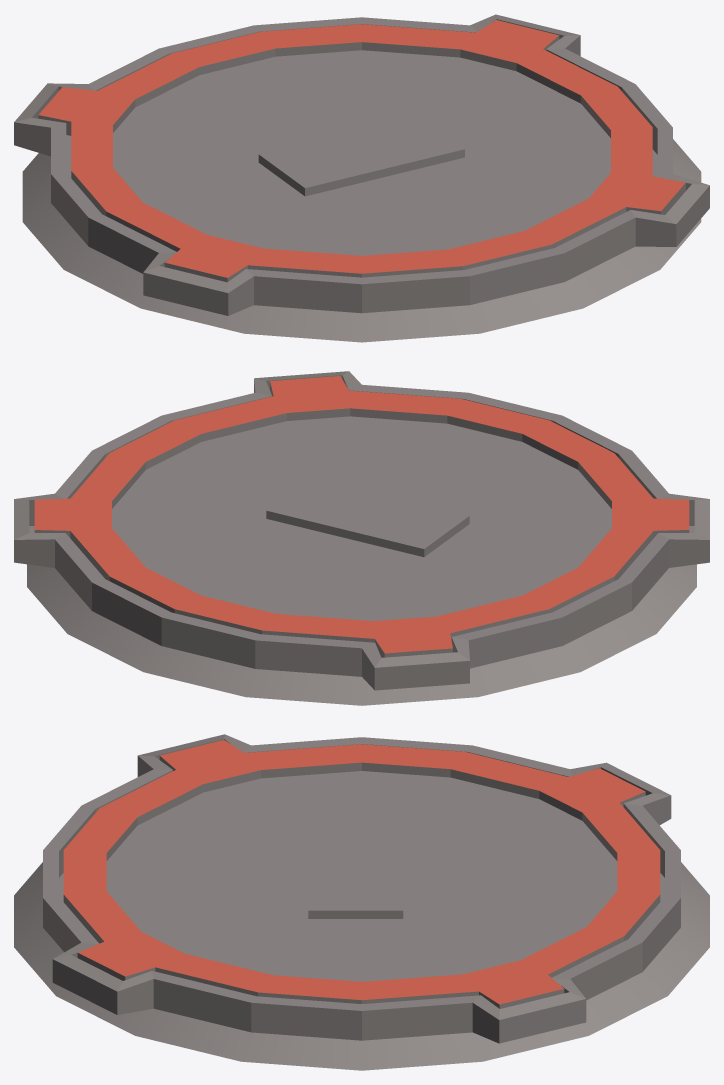
The model's file is SM_Severage_01.fbx.
3 views of the same model, one above another, from view 1: azimuth 30°, elevation 25°; view 2: azimuth 150°, elevation 25°; view 3: azimuth 270°, elevation 25° (orthographic). The views are drawn at different scales.
Visible parts, largest first — view 1: SM_Severage_01; view 2: SM_Severage_01; view 3: SM_Severage_01.
Boxes of the visible parts, <box> form: SM_Severage_01: <box>14,14,709,342</box>; SM_Severage_01: <box>14,371,709,705</box>; SM_Severage_01: <box>14,734,709,1070</box>.
Bounding box in the file's own units: 112 × 8.62 × 110.
